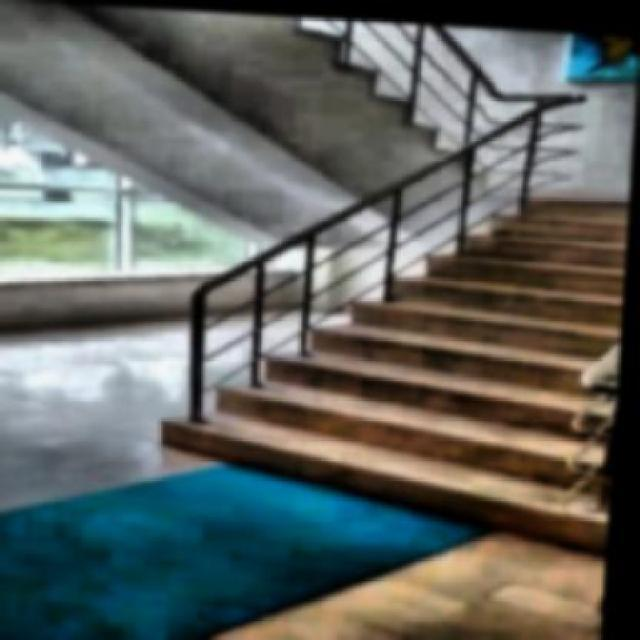stair: (122, 137, 630, 551)
